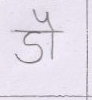ai_matra: (33, 9, 59, 30)
